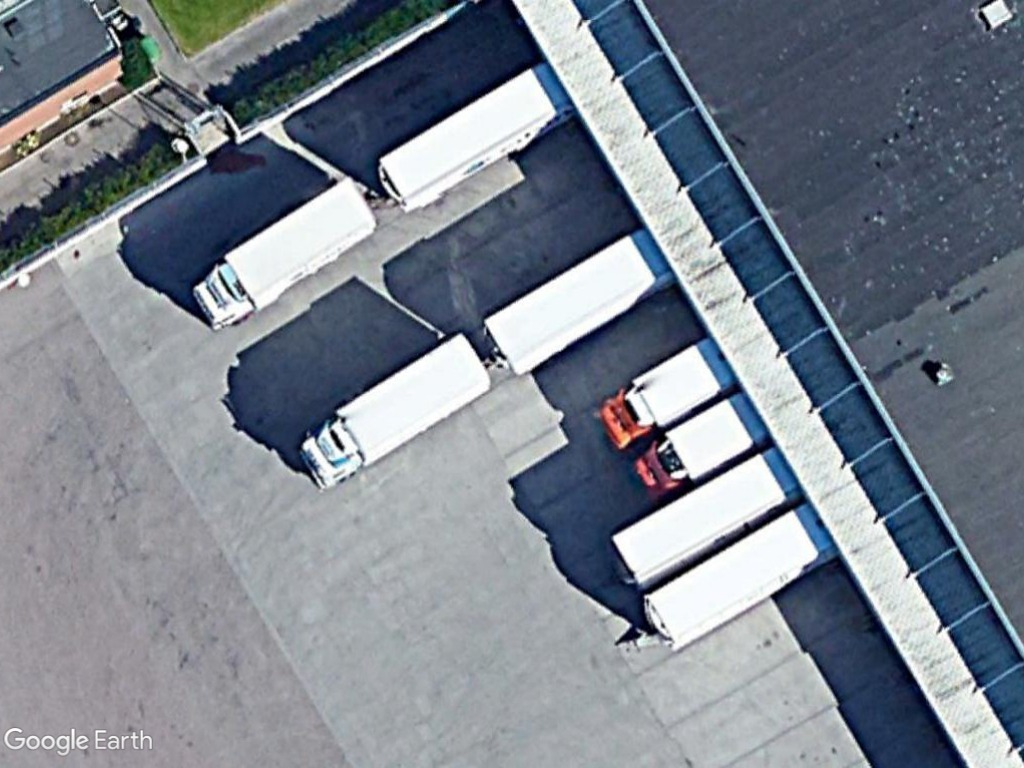truck: (181, 173, 388, 334), (292, 329, 492, 493)
